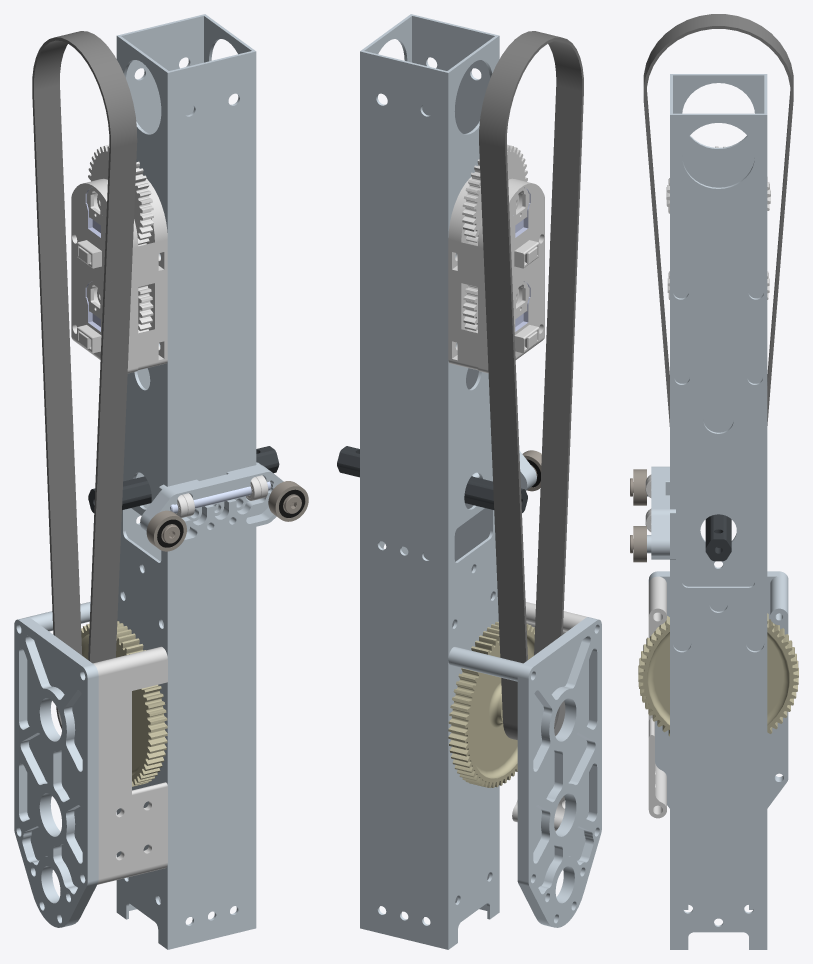
3 renders of one model, left to right at view 1: azimuth 30°, elevation 25°; view 2: azimuth 150°, elevation 25°; view 3: azimuth 270°, elevation 25°, orthographic. The views are drawn at different scales.
Parts seen in each view (by area): view 1: 1678-25-P-0703, 165T HTD Belt, 1678-25-P-0712, Part 51, Part 9, WCP-0897-001 Rev1, 64t 20dp Aluminum 1/2" Hex Bore Pocketed Gear (WCP-0122), Part 11, Spur gear (41 teeth), 1678-25-P-0720, WCP-0212_0_250_radial_bearing_1, WCP-0212_0_250_radial_bearing (+2 smaller); view 2: 1678-25-P-0703, 165T HTD Belt, 1678-25-P-0712, 64t 20dp Aluminum 1/2" Hex Bore Pocketed Gear (WCP-0122), Part 9, Part 11, Spur gear (41 teeth), 1678-25-P-0720, 1678-25-P-0719, Part 51, Spur gear (40 teeth); view 3: 1678-25-P-0703, 165T HTD Belt, 64t 20dp Aluminum 1/2" Hex Bore Pocketed Gear (WCP-0122), 1678-25-P-0712, Part 51, WCP-0897-001 Rev1, 1678-25-P-0720, 1678-25-P-0719, WCP-0212_0_250_radial_bearing_1, WCP-0212_0_250_radial_bearing.
Part boxes in pixels (x1,y1,x2,y2): 1678-25-P-0703: [116, 14, 256, 949]; 165T HTD Belt: [32, 31, 137, 729]; 1678-25-P-0712: [14, 617, 98, 927]; Part 51: [93, 646, 167, 884]; Part 9: [71, 178, 138, 373]; WCP-0897-001 Rev1: [140, 462, 283, 544]; 64t 20dp Aluminum 1/2" Hex Bore Pocketed Gear (WCP-0122): [81, 621, 167, 786]; Part 11: [138, 175, 167, 370]; Spur gear (41 teeth): [88, 145, 153, 246]; 1678-25-P-0720: [88, 446, 279, 512]; WCP-0212_0_250_radial_bearing_1: [268, 481, 308, 521]; WCP-0212_0_250_radial_bearing: [146, 510, 186, 551]; 1678-25-P-0703: [360, 14, 499, 949]; 165T HTD Belt: [479, 31, 583, 739]; 1678-25-P-0712: [517, 617, 601, 927]; 64t 20dp Aluminum 1/2" Hex Bore Pocketed Gear (WCP-0122): [448, 621, 534, 787]; Part 9: [478, 178, 544, 373]; Part 11: [448, 177, 478, 370]; Spur gear (41 teeth): [462, 144, 527, 246]; 1678-25-P-0720: [337, 446, 527, 512]; 1678-25-P-0719: [448, 647, 522, 681]; Part 51: [512, 602, 586, 831]; Spur gear (40 teeth): [462, 284, 518, 333]; 1678-25-P-0703: [670, 74, 767, 949]; 165T HTD Belt: [643, 14, 793, 426]; 64t 20dp Aluminum 1/2" Hex Bore Pocketed Gear (WCP-0122): [638, 613, 798, 736]; 1678-25-P-0712: [648, 571, 788, 808]; Part 51: [648, 576, 666, 818]; WCP-0897-001 Rev1: [647, 466, 675, 559]; 1678-25-P-0720: [705, 514, 731, 561]; 1678-25-P-0719: [770, 576, 788, 625]; WCP-0212_0_250_radial_bearing_1: [633, 526, 646, 562]; WCP-0212_0_250_radial_bearing: [633, 469, 646, 505].
Bounding box in the file's own units: 0.127 × 0.4963 × 0.0881.
